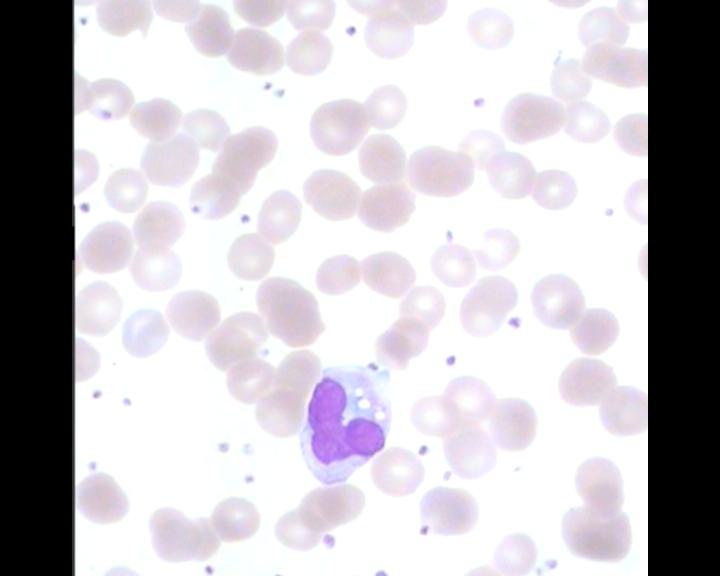mono: (297, 354, 393, 488)
